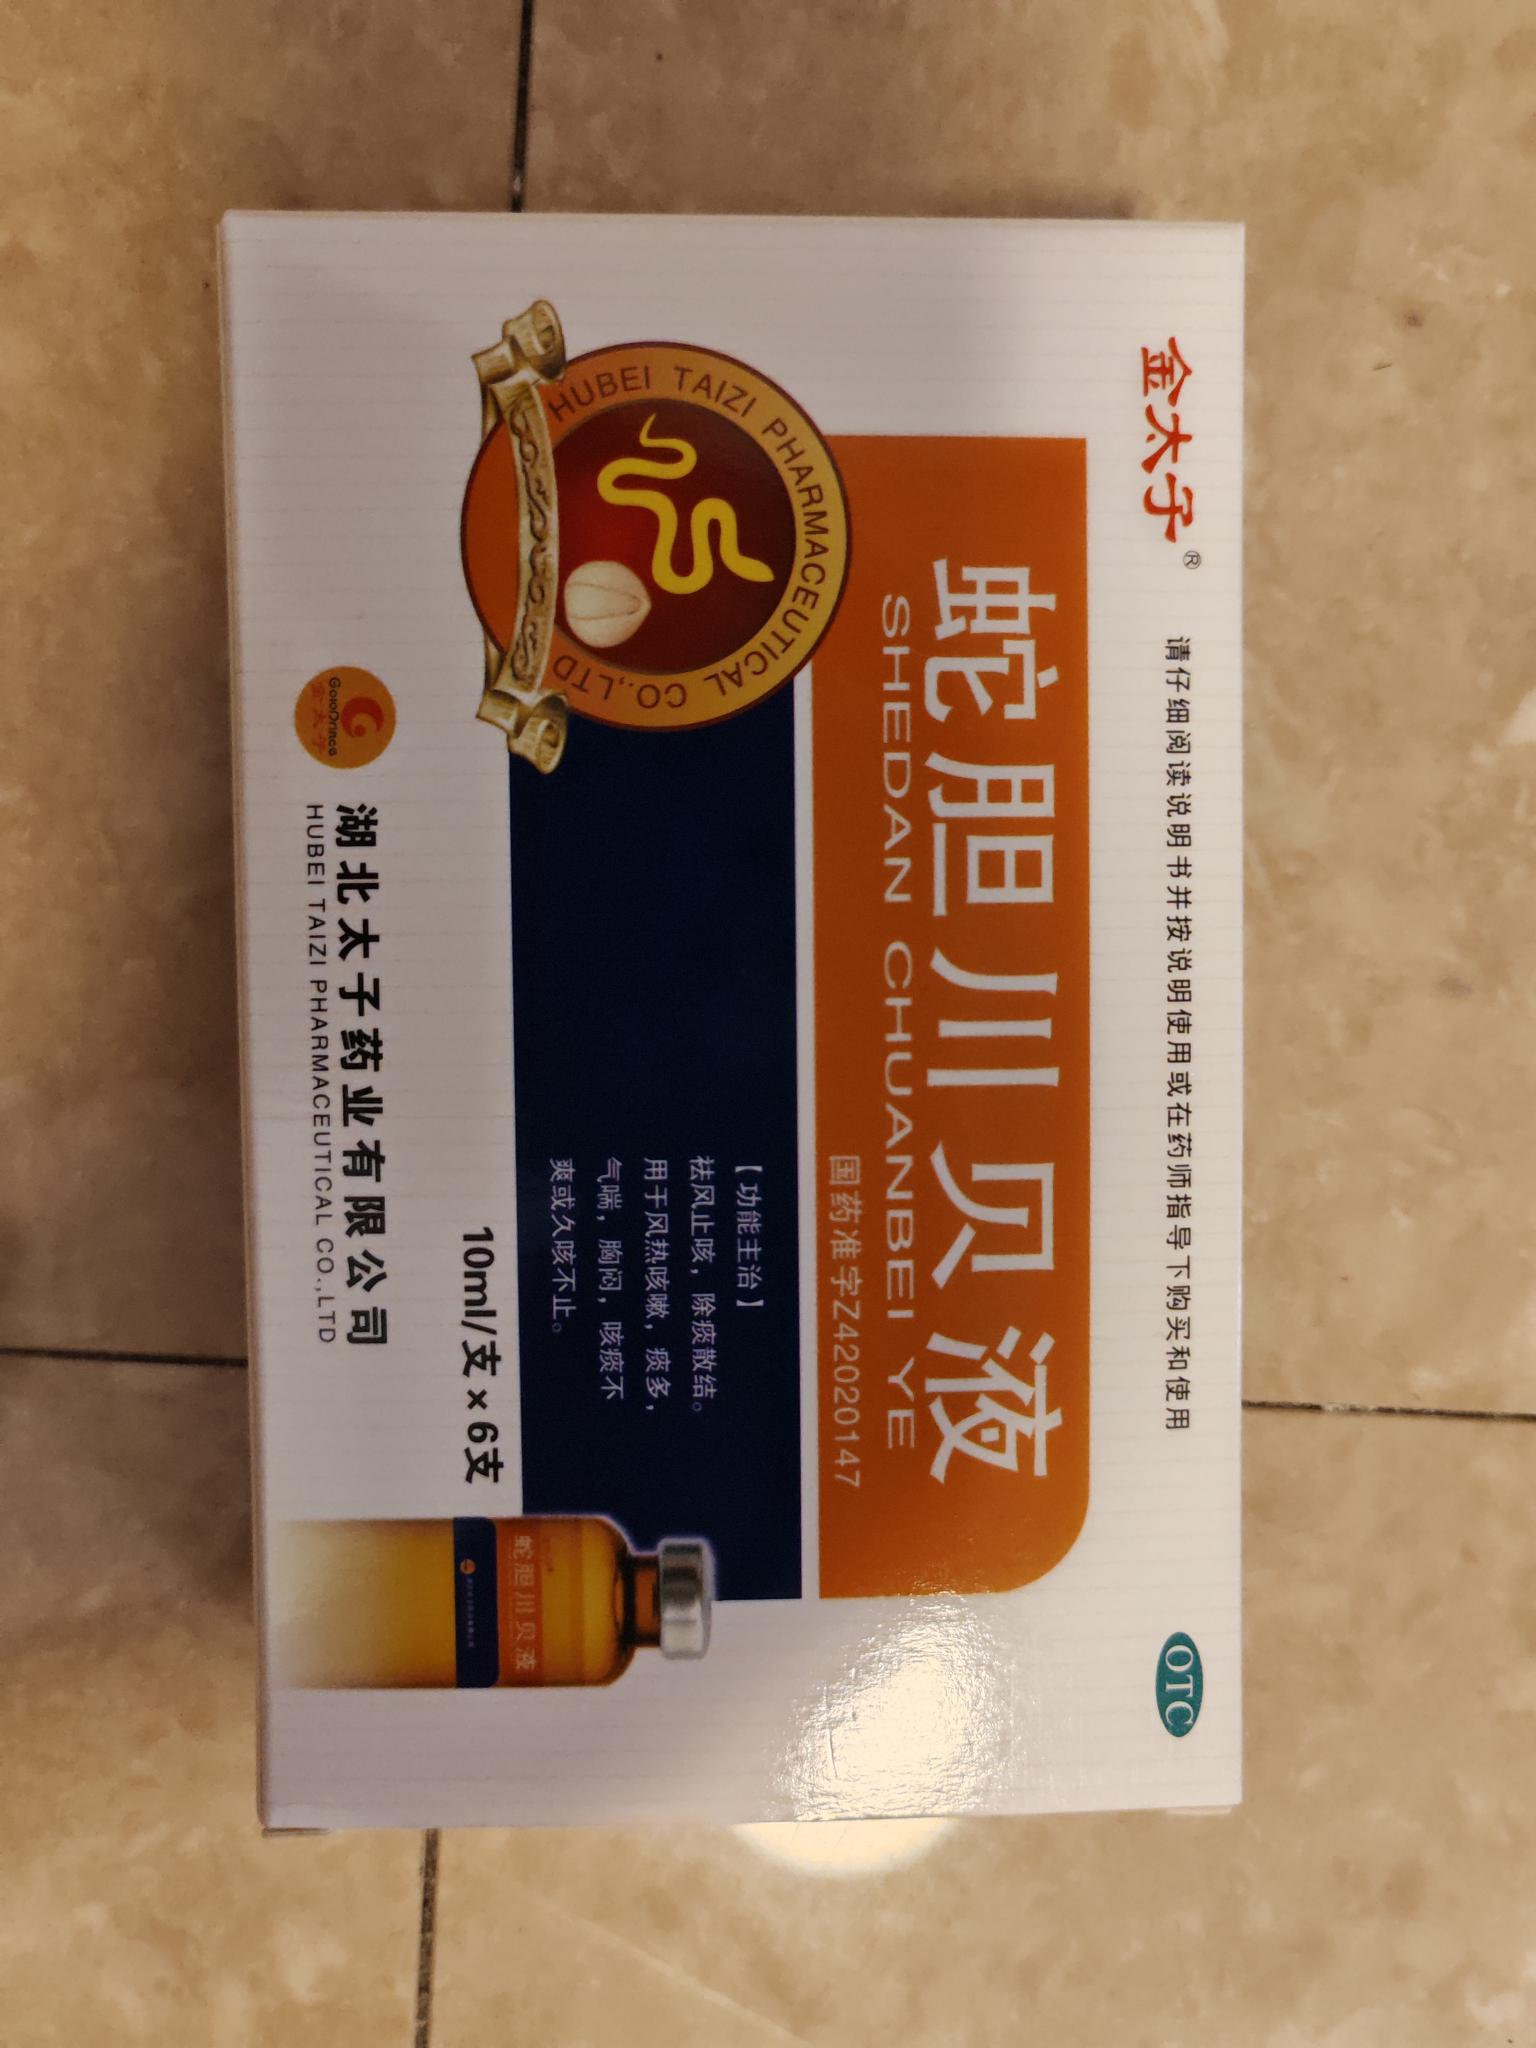Medicine5: (182, 258, 1536, 1350)
